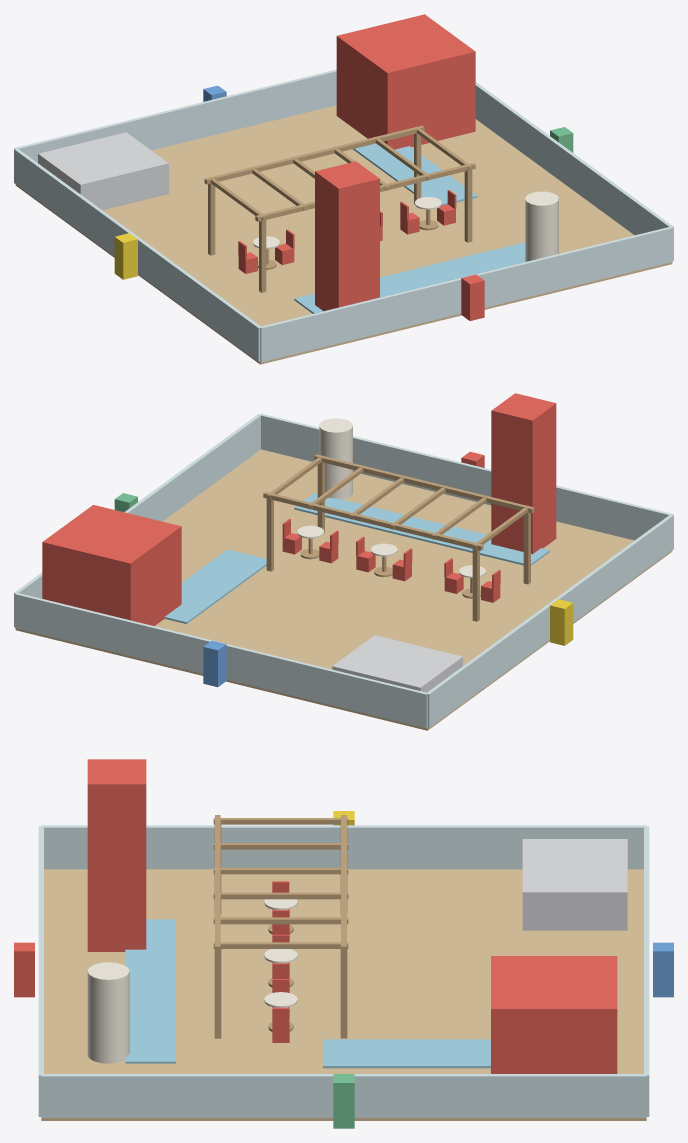
Rendered from roof.glb.
The picture shows the model from 3 angles, top to bottom: view 1: azimuth 30°, elevation 25°; view 2: azimuth 150°, elevation 25°; view 3: azimuth 270°, elevation 25°; orthographic projection. The views are drawn at different scales.
Parts seen in each view (by area): view 1: floor, rail (×4), penthouse, beacon, mep, circ (×2), beam (×2), swirl, post (×3), W, S; view 2: floor, rail (×4), penthouse, beacon, circ (×2), mep, beam (×2), swirl, post (×3), W, N; view 3: floor, rail (×4), penthouse, beacon, circ (×2), mep, rafter (×6), swirl, beam (×2), post (×2), E, N (+1 smaller).
Boxes of the visible parts, x1,y1,x2,y2 form: floor: (15, 105, 672, 364); rail (×4): (14, 69, 673, 362); penthouse: (336, 14, 475, 149); beacon: (315, 161, 379, 311); mep: (38, 132, 168, 210); circ (×2): (294, 143, 525, 313); beam (×2): (204, 125, 475, 221); swirl: (525, 191, 558, 261); post (×3): (208, 168, 472, 292); W: (114, 233, 137, 279); S: (461, 274, 484, 320); floor: (15, 449, 672, 730); rail (×4): (14, 413, 673, 728); penthouse: (42, 505, 181, 625); beacon: (491, 393, 556, 553); circ (×2): (164, 493, 549, 623); mep: (332, 635, 462, 692); beam (×2): (263, 454, 534, 550); swirl: (319, 418, 352, 499); post (×3): (266, 496, 530, 621); W: (550, 599, 573, 645); N: (203, 640, 226, 687); floor: (41, 869, 646, 1120); rail (×4): (38, 825, 649, 1117); penthouse: (491, 956, 617, 1073); beacon: (87, 759, 146, 951); circ (×2): (125, 919, 490, 1068); mep: (522, 839, 627, 930); rafter (×6): (213, 818, 348, 948); swirl: (87, 962, 129, 1063); beam (×2): (215, 815, 346, 951); post (×2): (214, 947, 347, 1038); E: (333, 1074, 354, 1128); N: (653, 942, 673, 997).
Size of the model in its own units: 15.3 by 4.5 by 15.7.
